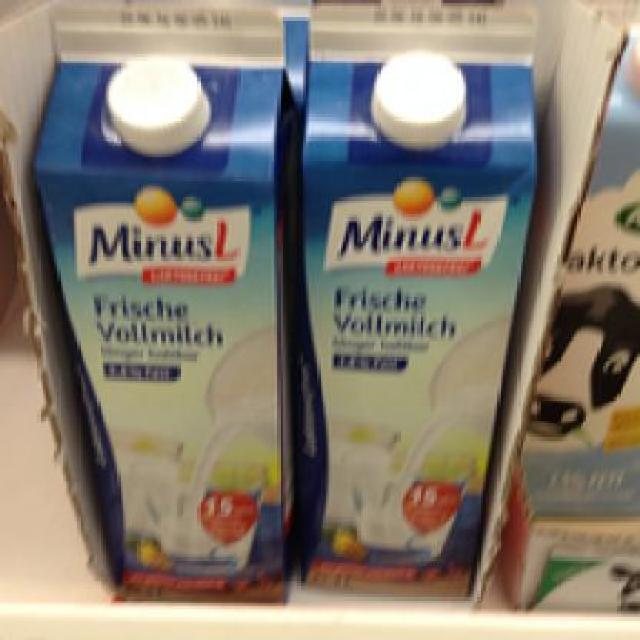Milk: (34, 0, 300, 603), (294, 0, 543, 600)
